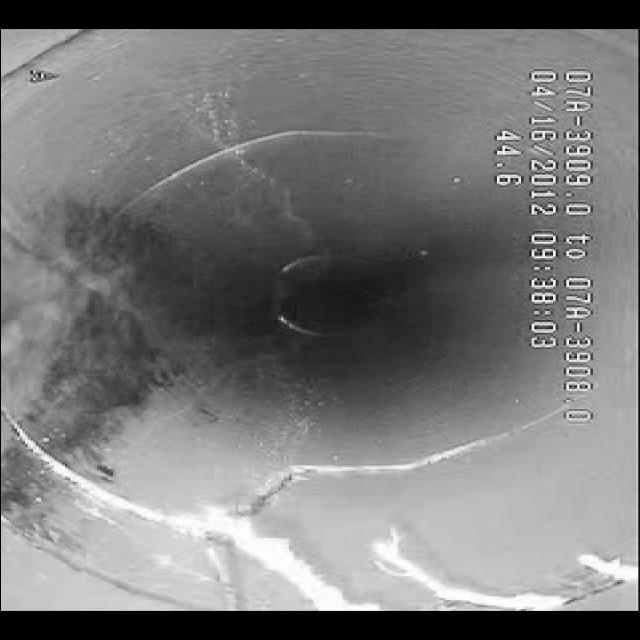Crack: (222, 416, 542, 538)
